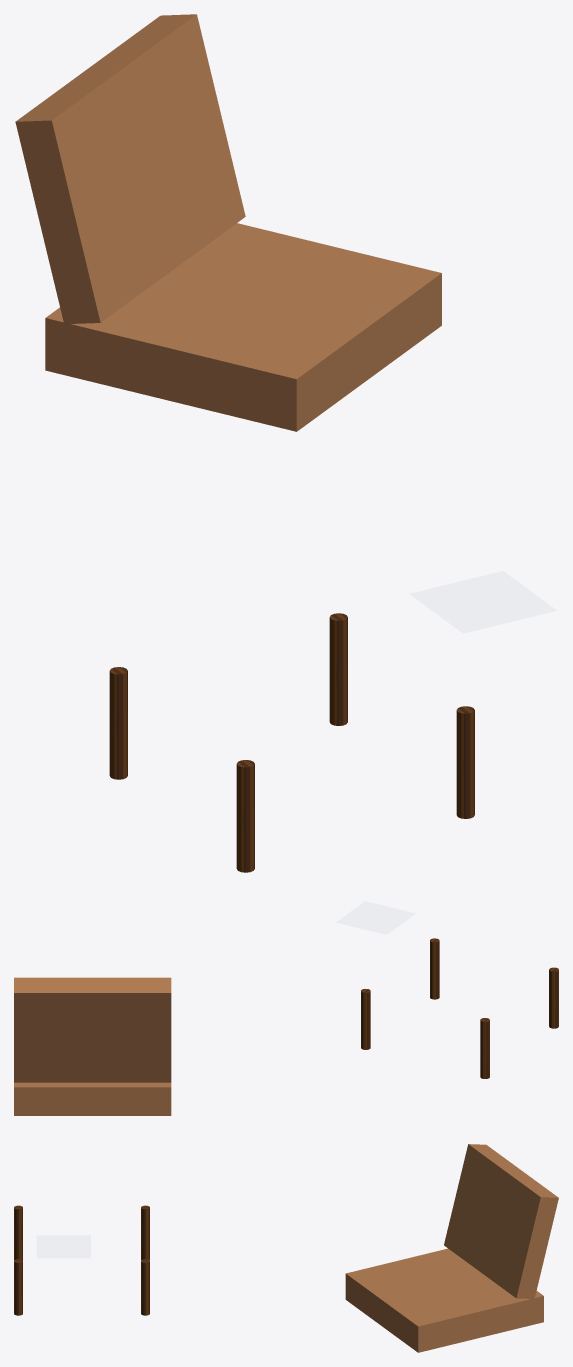
Rendered from butaca.fbx.
The picture shows the model from 3 angles, top to bottom: view 1: azimuth 30°, elevation 25°; view 2: azimuth 150°, elevation 25°; view 3: azimuth 270°, elevation 25°; orthographic projection. The views are drawn at different scales.
Parts seen in each view (by area): view 1: Asiento, Respaldo, Bandeja, Pata 1, Pata 2, Pata 3, Pata 4; view 2: Respaldo, Asiento, Bandeja, Pata 1, Pata 2, Pata 3, Pata 4; view 3: Asiento, Respaldo, Bandeja, Pata 2, Pata 4, Pata 1, Pata 3.
Boxes of the visible parts, bbox=[...] form: Asiento: bbox=[45, 223, 441, 431]; Respaldo: bbox=[15, 14, 245, 323]; Bandeja: bbox=[410, 571, 556, 633]; Pata 1: bbox=[236, 760, 254, 872]; Pata 2: bbox=[456, 706, 474, 818]; Pata 3: bbox=[109, 667, 127, 779]; Pata 4: bbox=[329, 613, 347, 725]; Respaldo: bbox=[14, 977, 171, 1082]; Asiento: bbox=[14, 1082, 171, 1115]; Bandeja: bbox=[336, 901, 415, 934]; Pata 1: bbox=[549, 967, 558, 1028]; Pata 2: bbox=[430, 938, 439, 999]; Pata 3: bbox=[480, 1018, 489, 1078]; Pata 4: bbox=[361, 989, 370, 1049]; Asiento: bbox=[345, 1248, 543, 1352]; Respaldo: bbox=[444, 1144, 558, 1298]; Bandeja: bbox=[37, 1235, 90, 1257]; Pata 2: bbox=[14, 1259, 22, 1315]; Pata 4: bbox=[141, 1259, 149, 1315]; Pata 1: bbox=[14, 1205, 22, 1260]; Pata 3: bbox=[141, 1205, 149, 1260].
Size of the model in its own units: 192 by 109 by 300.
3 materials, 1 textured.
